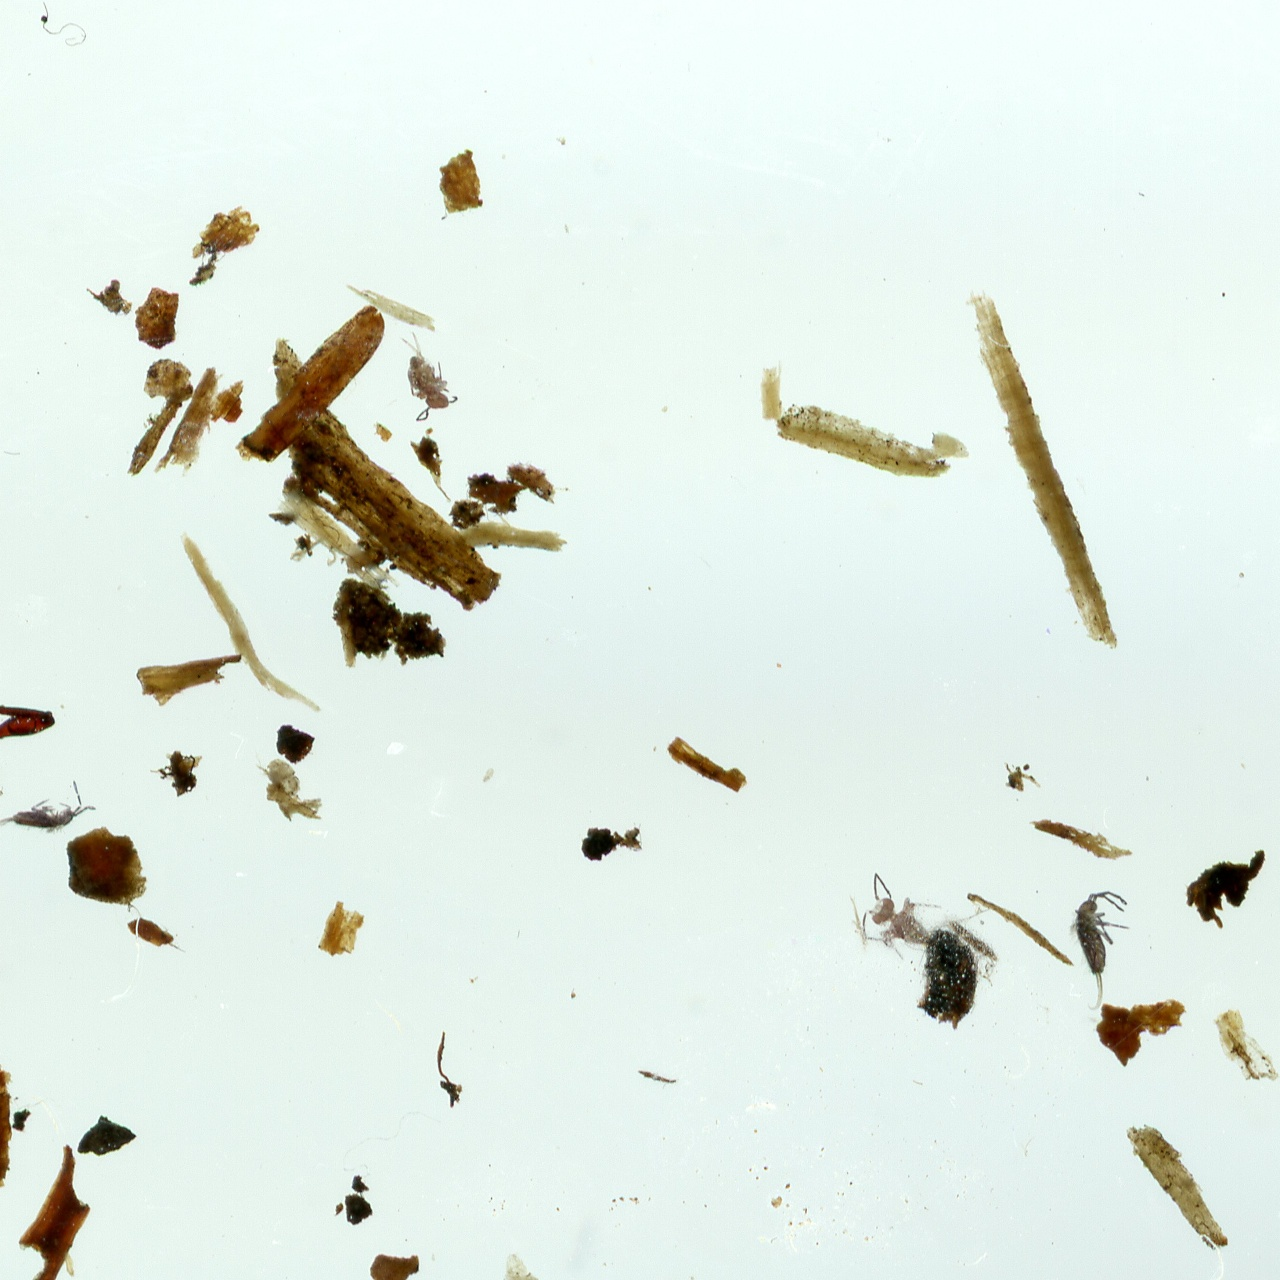arthropod: (836, 858, 960, 980), (379, 321, 465, 428), (1060, 886, 1132, 1013), (0, 777, 100, 845)
